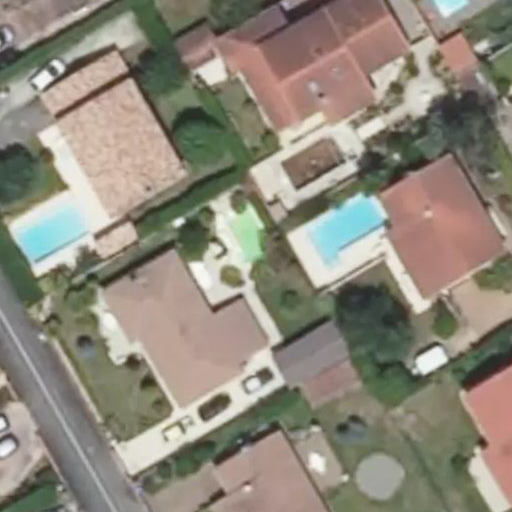pool: (231, 226, 280, 257)
